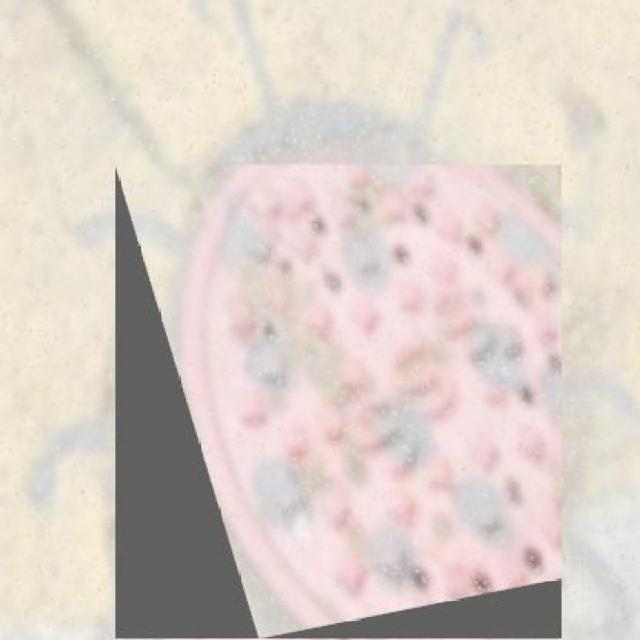Manhole: (117, 164, 562, 638)
